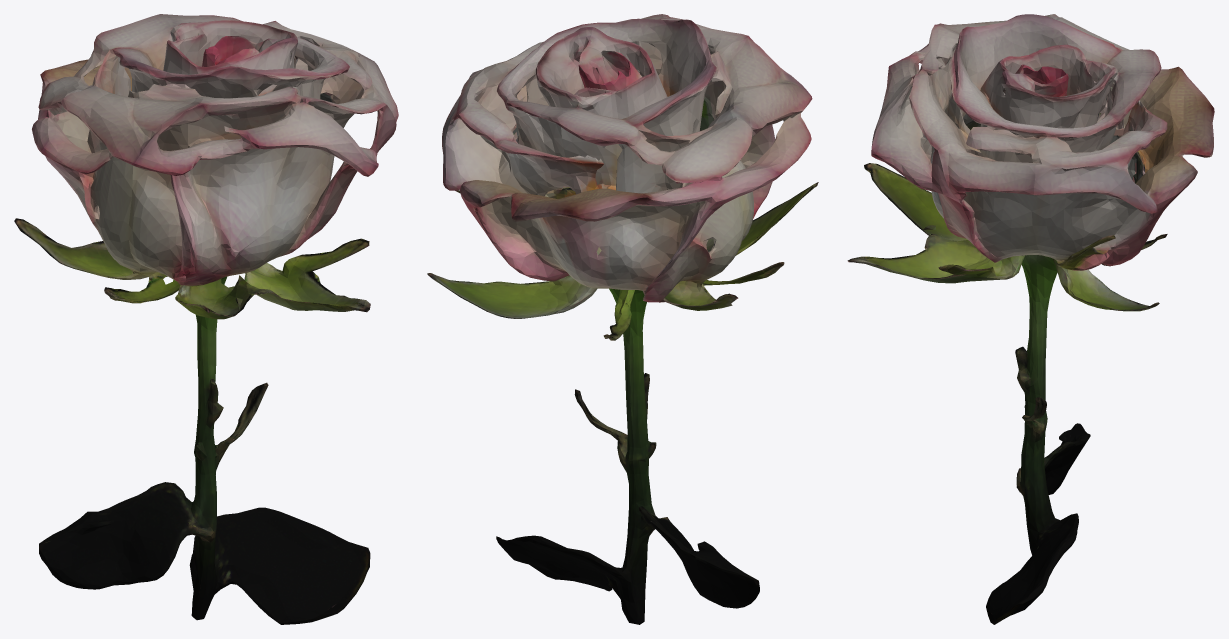
3 renders of one model, left to right at view 1: azimuth 30°, elevation 25°; view 2: azimuth 150°, elevation 25°; view 3: azimuth 270°, elevation 25°, orthographic. The views are drawn at different scales.
Parts seen in each view (by area): view 1: world; view 2: world; view 3: world.
Boxes of the visible parts, <box> form: world: <box>14,14,398,624</box>; world: <box>427,14,818,624</box>; world: <box>847,14,1214,624</box>.
Size of the model in its own units: 0.5721 by 0.9776 by 0.6033.
Materials: 1 (1 with a texture image).
